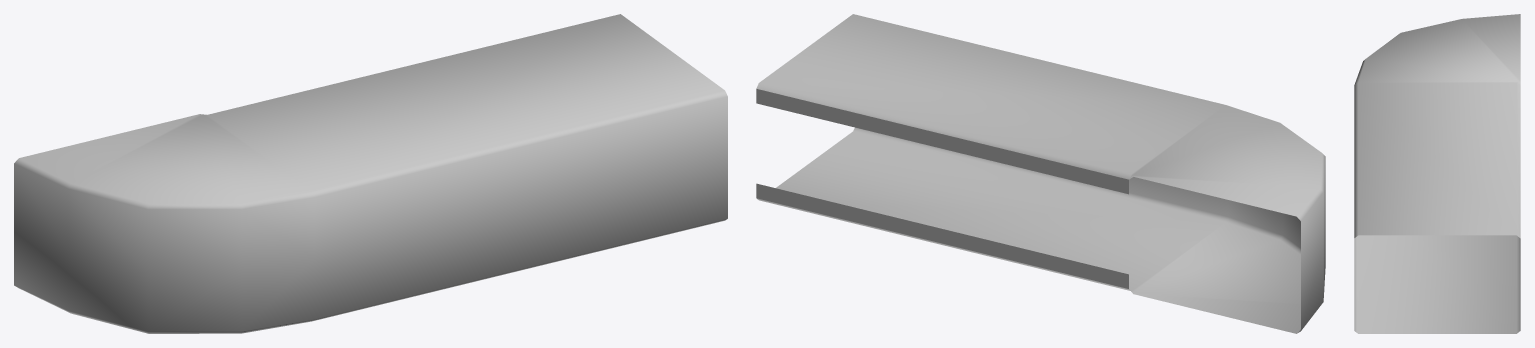
The model's file is Curbe_Edge_2.FBX.
The picture shows the model from 3 angles, left to right: view 1: azimuth 30°, elevation 25°; view 2: azimuth 150°, elevation 25°; view 3: azimuth 270°, elevation 25°; orthographic projection. The views are drawn at different scales.
Visible parts, largest first — view 1: Object001; view 2: Object001; view 3: Object001.
Part boxes in pixels (x1=…): Object001: x1=14, y1=14, x2=727, y2=333; Object001: x1=756, y1=14, x2=1325, y2=333; Object001: x1=1354, y1=14, x2=1520, y2=333.
Bounding box in the file's own units: 102 × 21.06 × 32.27.
Materials: 2 (2 with a texture image).
